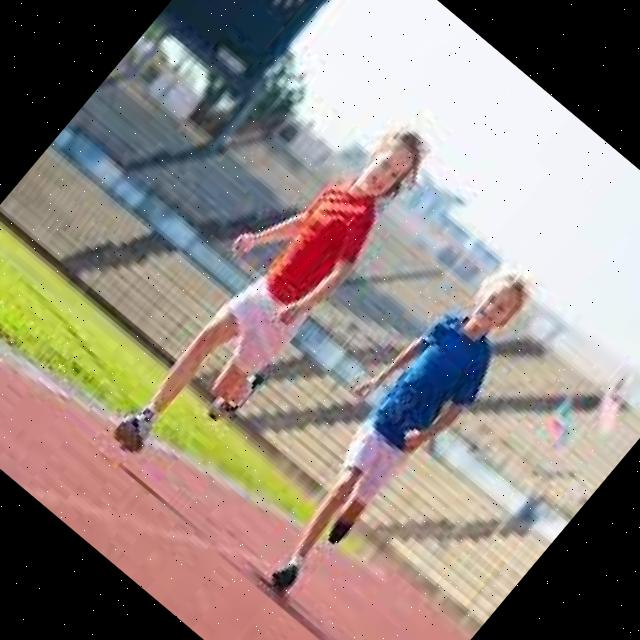Person: (86, 88, 448, 489), (218, 239, 554, 612)
